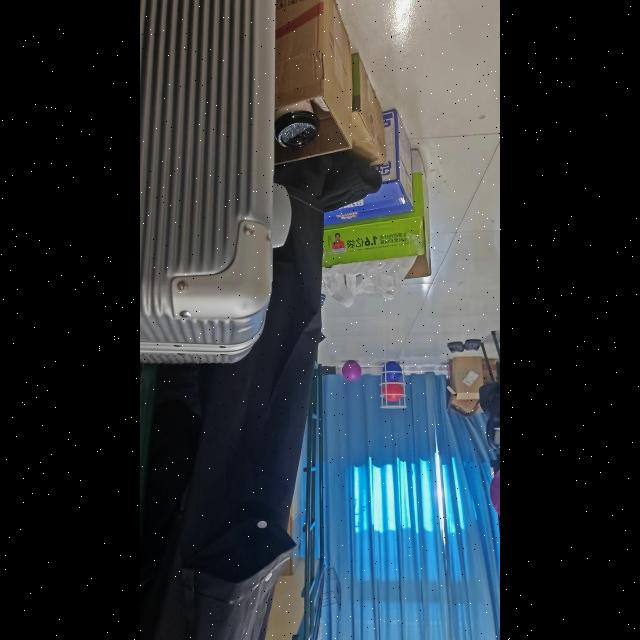B: (386, 362, 402, 381)
P: (342, 361, 361, 381)
R: (381, 382, 403, 402)
S: (381, 361, 407, 408)
